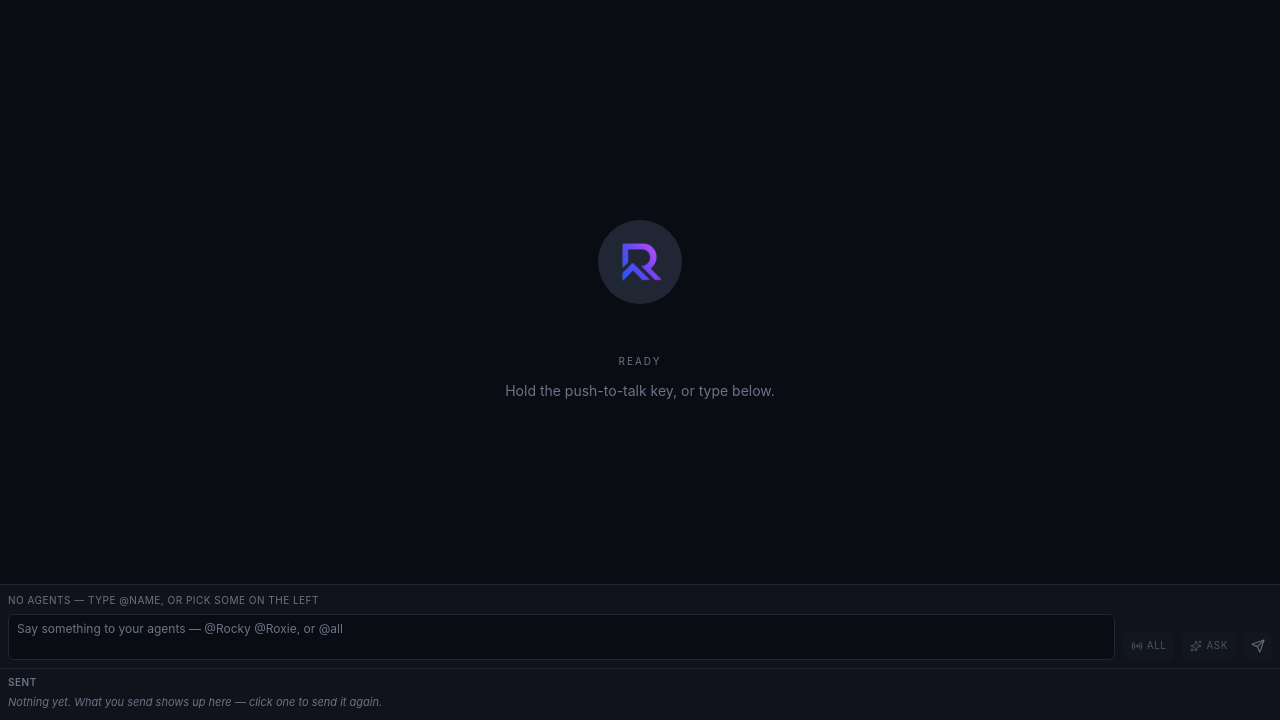
Test: the command bar's target line › counts a broadcast
This screenshot has width=1280, height=720.
Type "@all ship it" into the text box named "Message for your agents" at {"x": 561, "y": 636}, box [8, 614, 1115, 660]
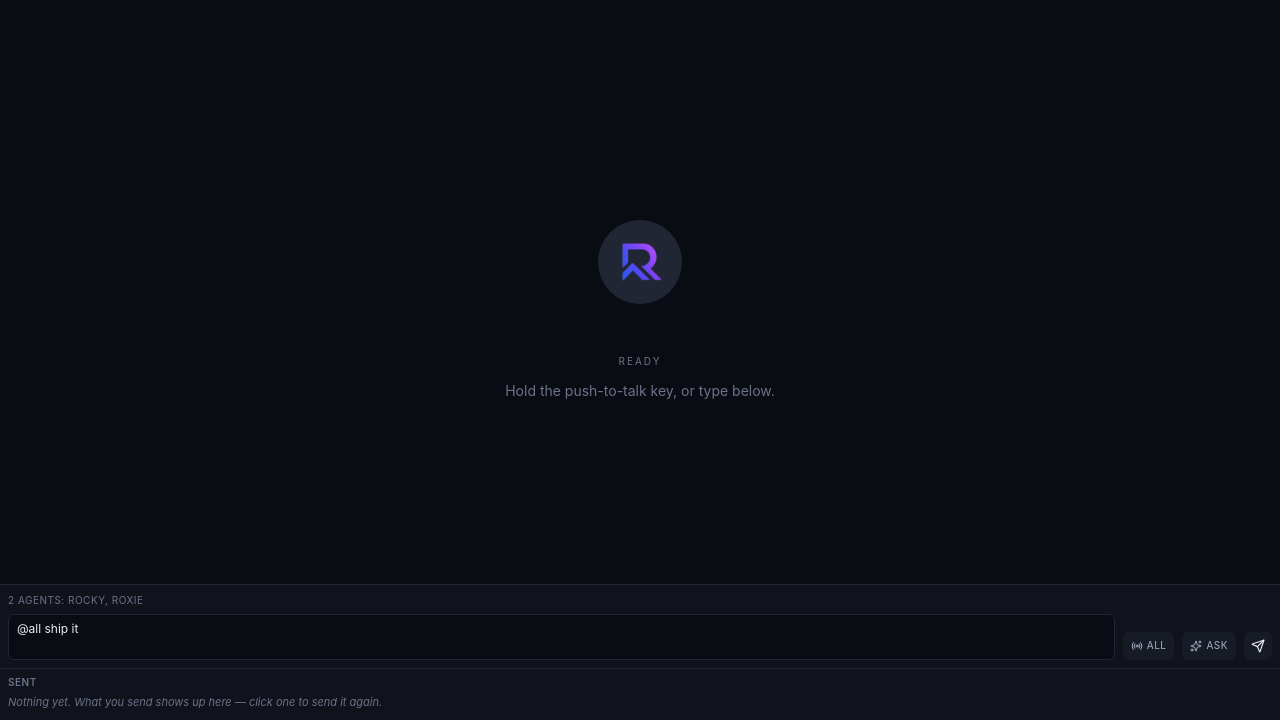
Check: the text "2 agents: Rocky, Roxie" is shown, box [8, 594, 144, 606]
